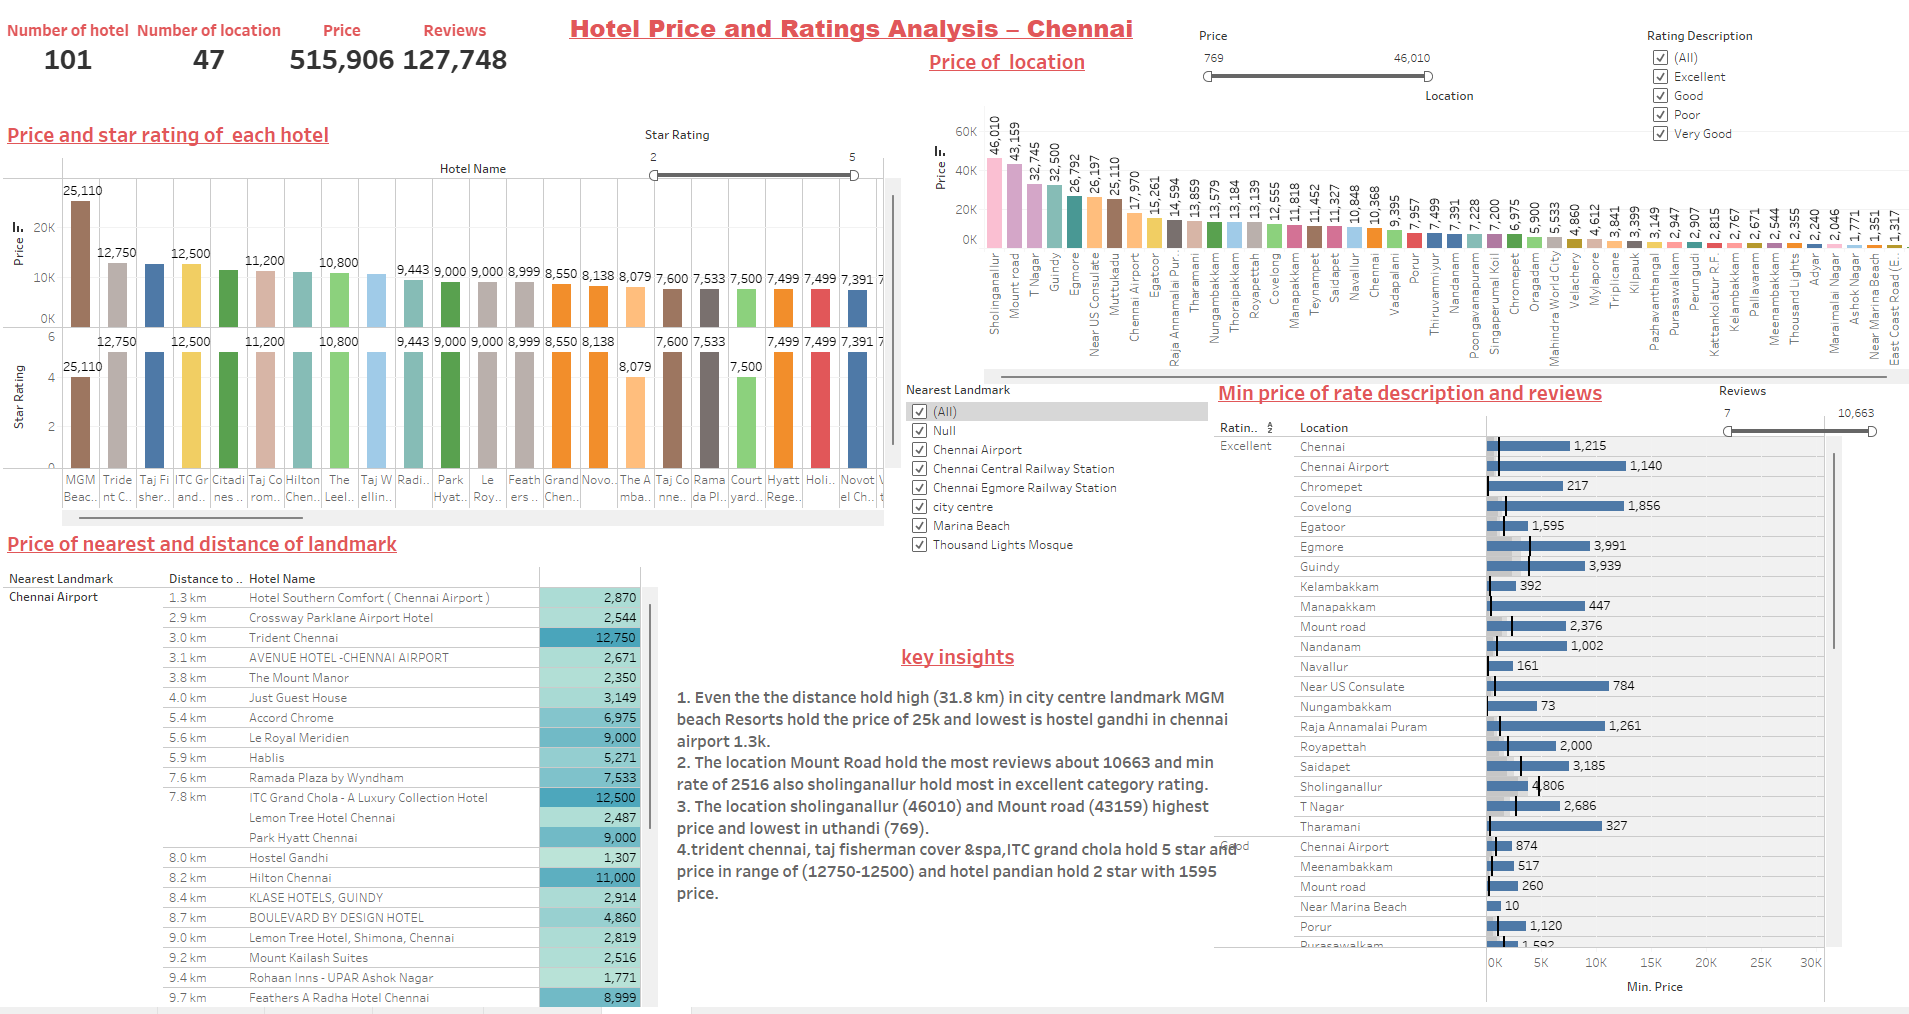

What the dashboard file says about the page in this screenshot:
{"tool":"tableau","page":{"name":"main dash","canvas":[1000,1000],"units":"permille","ordinal":0},"visuals":[{"type":"worksheet","title":"KPI of imp tables","mark":"Automatic","box":[0.8,19,461.7,92.2]},{"type":"filter","title":"price by location","param":"[federated.1ptxxr90oogl15158rcvc1r2rrk3].[sum:Price:qk]","box":[625.8,29.3,124.2,86.4]},{"type":"filter","title":"rate and reviews","param":"[federated.1ptxxr90oogl15158rcvc1r2rrk3].[none:Rating Description:nk]","box":[859.2,29.3,96.7,161.1]},{"type":"worksheet","title":"price by location","mark":"Automatic","rows":["Price"],"cols":["Location"],"box":[483.3,45.4,515,338.2]},{"type":"worksheet","title":"price and star rate","mark":"Automatic","rows":["Price","Star Rating"],"cols":["Hotel Name"],"box":[3.3,117.7,467.5,406.3]},{"type":"filter","title":"price and star rate","param":"[federated.1ptxxr90oogl15158rcvc1r2rrk3].[sum:Star Rating:qk]","box":[337.5,117.7,113.3,94.5]},{"type":"worksheet","title":"rate and reviews","mark":"Automatic","rows":["Rating Description","Location"],"cols":["Price"],"box":[634.1,372.9,327.1,622.5]},{"type":"filter","title":"price difference landmark","param":"[federated.1ptxxr90oogl15158rcvc1r2rrk3].[none:Nearest Landmark:nk]","box":[473.3,373.4,157.5,237.2]},{"type":"filter","title":"rate and reviews","param":"[federated.1ptxxr90oogl15158rcvc1r2rrk3].[sum:Reviews:qk]","box":[897.5,382.1,84.2,76.1]},{"type":"text","box":[352.5,541.7,295.8,456.8]}]}

Visuals, with their boxes on the dashboard's canvas, which has no fixed pixel size, in thousandths of its width and height (x1, y1, x2, y2). These are canvas units, not pixel positions in the 1909x1014 screenshot, which may show the page scaled, cropped or inside an application window:
"KPI of imp tables" worksheet: [x1=1, y1=19, x2=462, y2=111]
"price by location" filter: [x1=626, y1=29, x2=750, y2=116]
"rate and reviews" filter: [x1=859, y1=29, x2=956, y2=190]
"price by location" worksheet: [x1=483, y1=45, x2=998, y2=384]
"price and star rate" worksheet: [x1=3, y1=118, x2=471, y2=524]
"price and star rate" filter: [x1=338, y1=118, x2=451, y2=212]
"rate and reviews" worksheet: [x1=634, y1=373, x2=961, y2=995]
"price difference landmark" filter: [x1=473, y1=373, x2=631, y2=611]
"rate and reviews" filter: [x1=898, y1=382, x2=982, y2=458]
text: [x1=352, y1=542, x2=648, y2=998]
